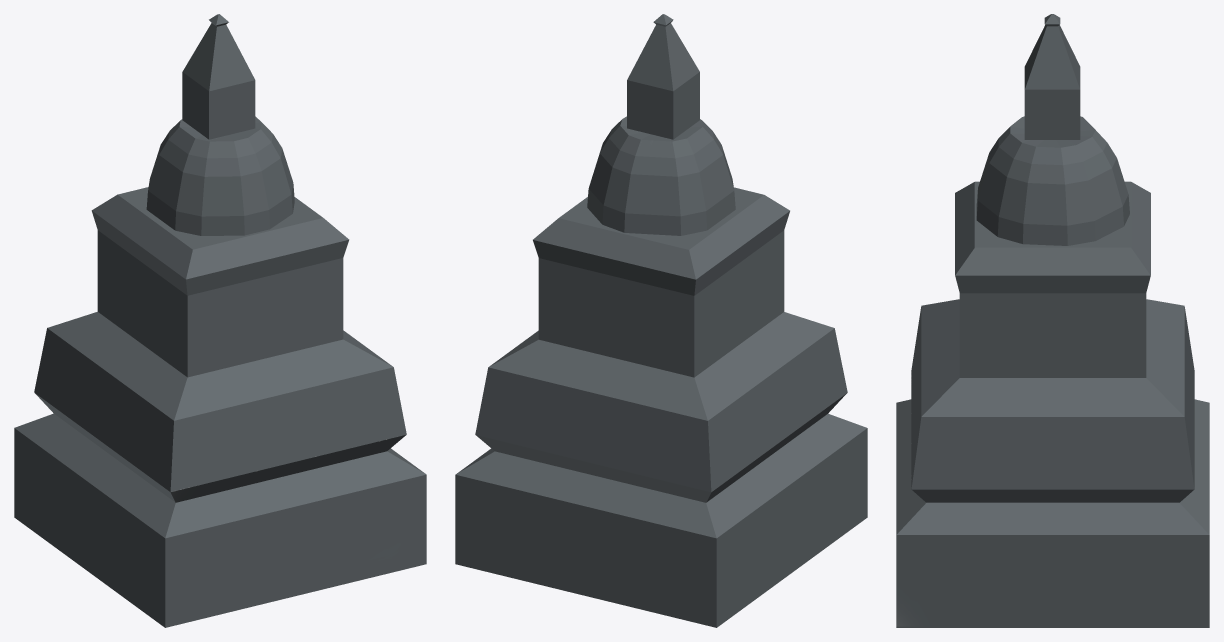
The model's file is miniStupa.fbx.
3 renders of one model, left to right at view 1: azimuth 30°, elevation 25°; view 2: azimuth 150°, elevation 25°; view 3: azimuth 270°, elevation 25°, orthographic. The views are drawn at different scales.
Parts seen in each view (by area): view 1: Cube.002; view 2: Cube.002; view 3: Cube.002.
Boxes of the visible parts, x1,y1,x2,y2 form: Cube.002: (14, 14, 426, 627); Cube.002: (455, 14, 867, 627); Cube.002: (896, 14, 1209, 627).
Size of the model in its own units: 2 by 2 by 3.85.
